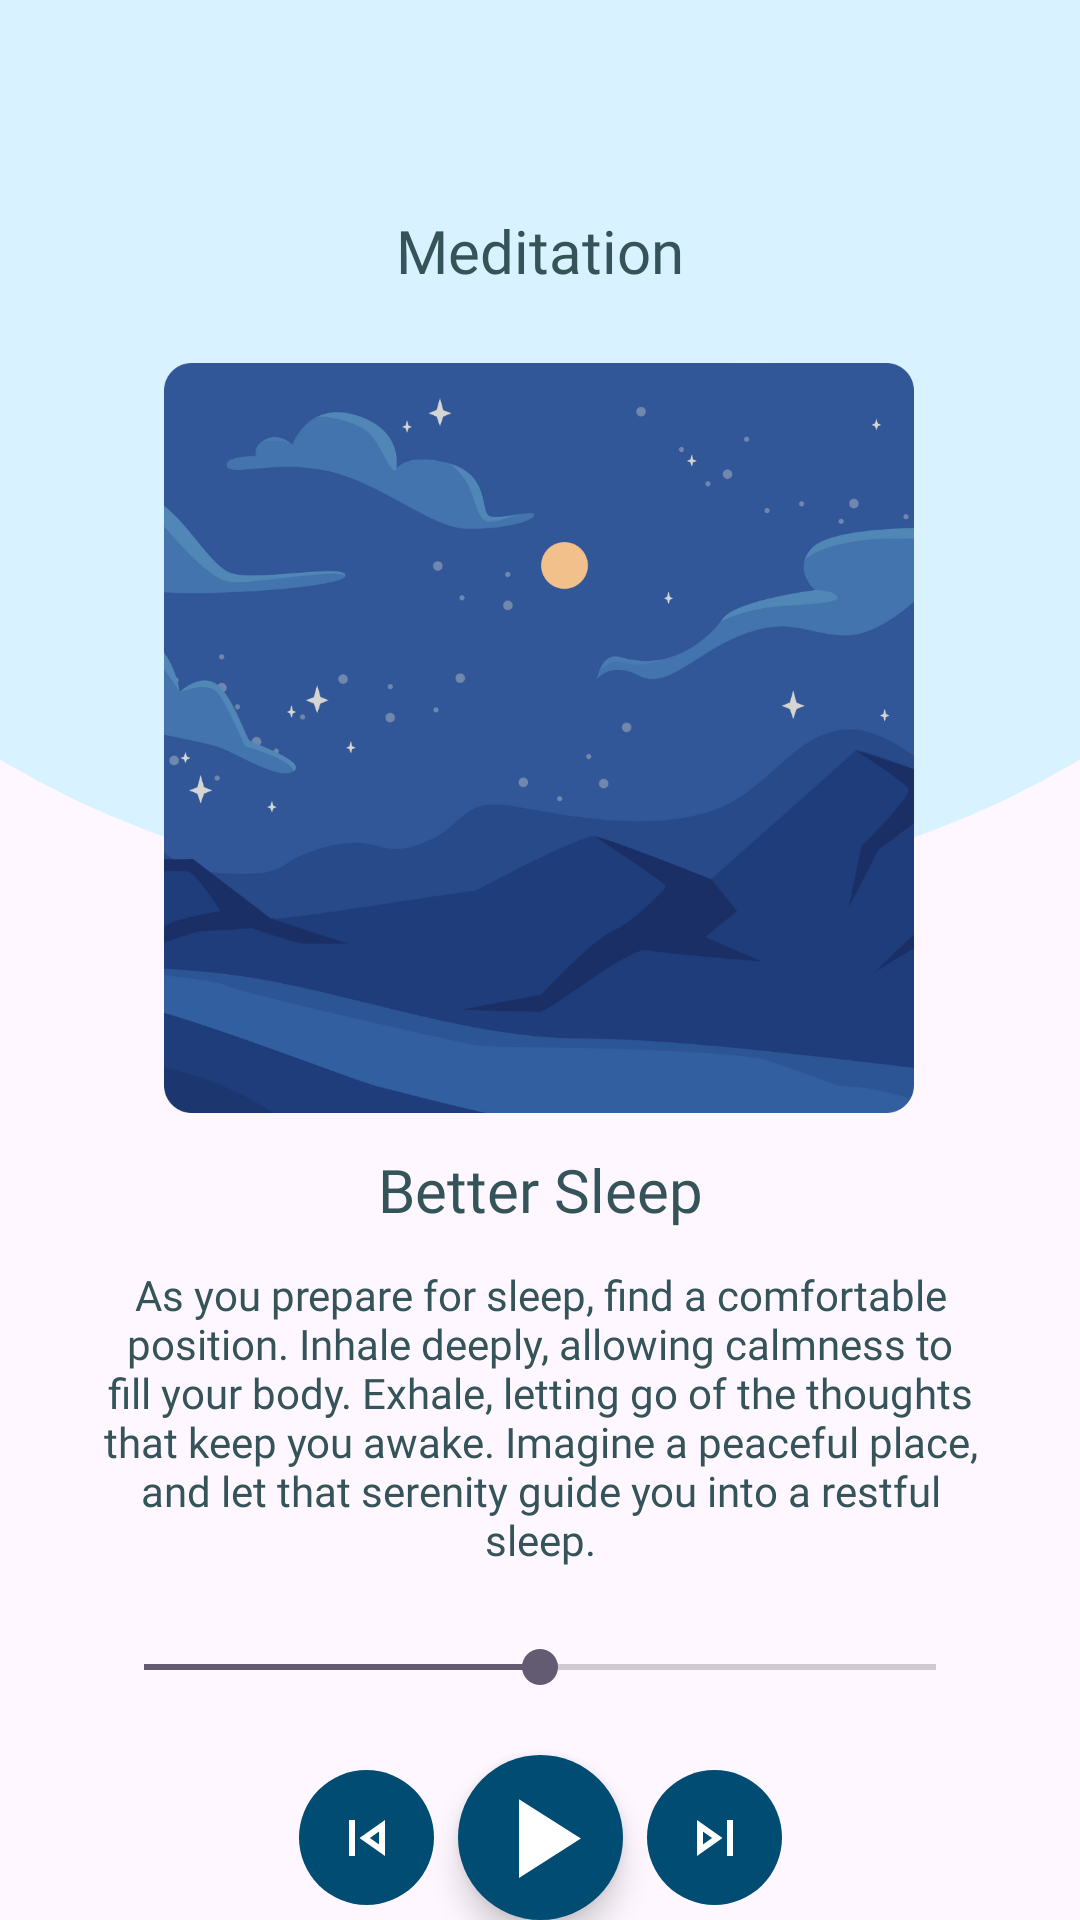

Locate icon controls on the screen. Image size 1080x1920, boxes as (x1, y1, x2, y2).
next: (647, 1770, 782, 1905)
play: (458, 1755, 623, 1920)
previous: (299, 1770, 434, 1905)
